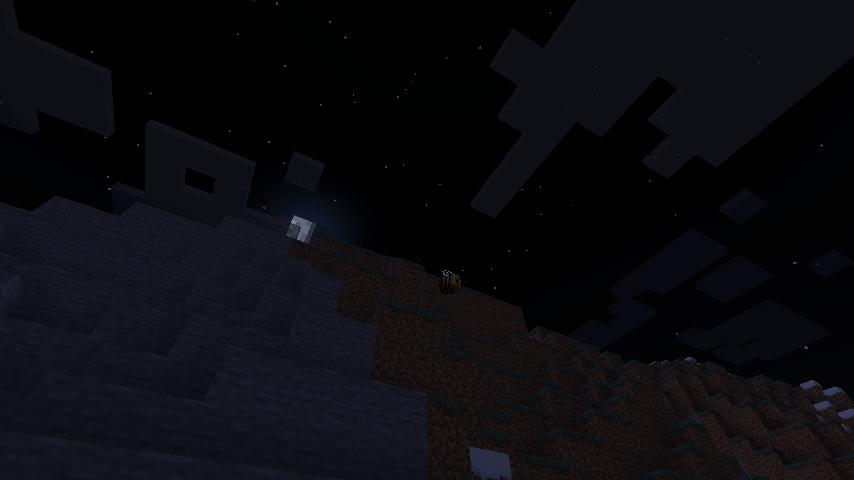bee: (436, 268, 464, 297)
